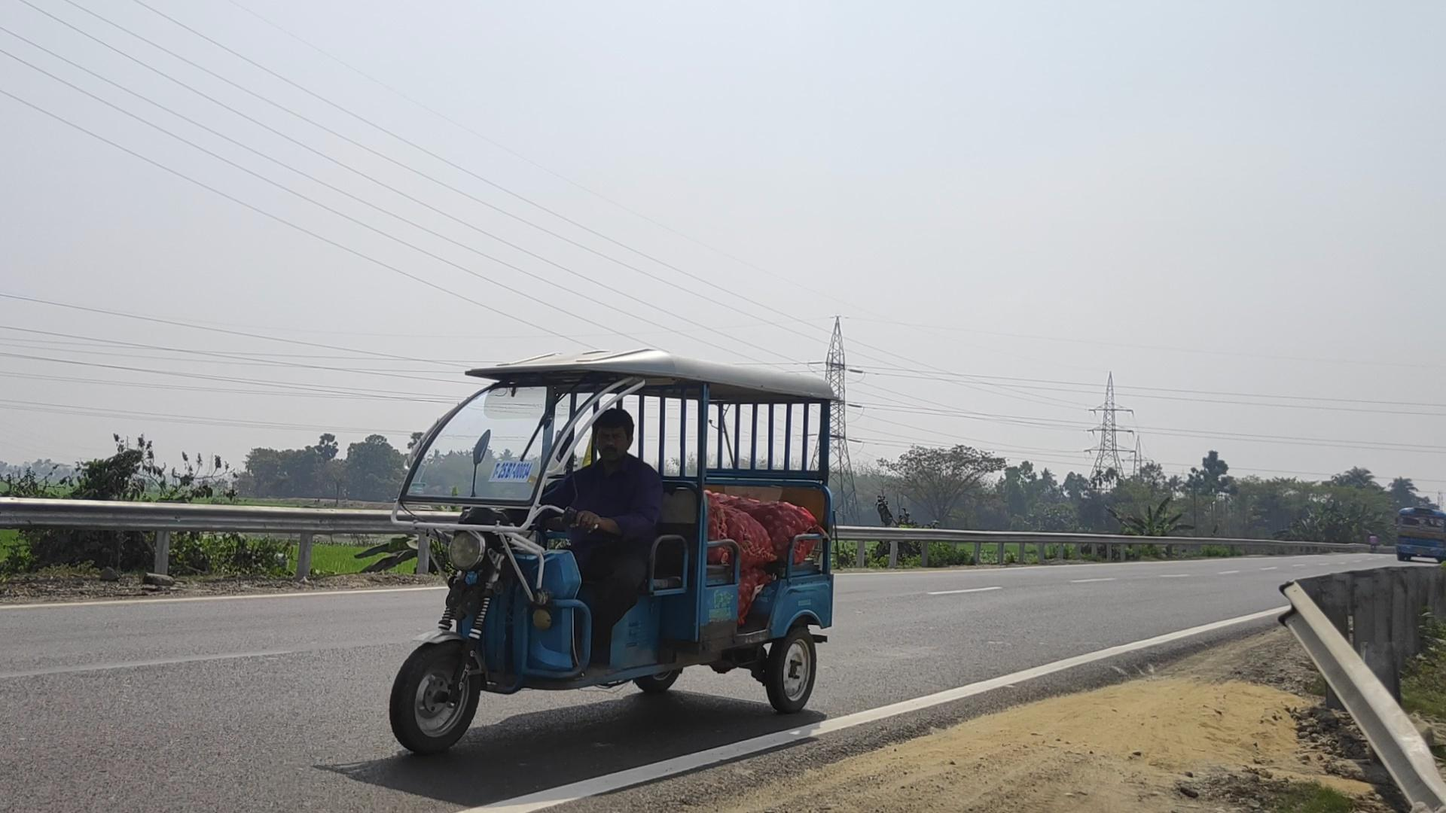Auto: (389, 347, 835, 754)
Bus: (1395, 506, 1446, 565)
